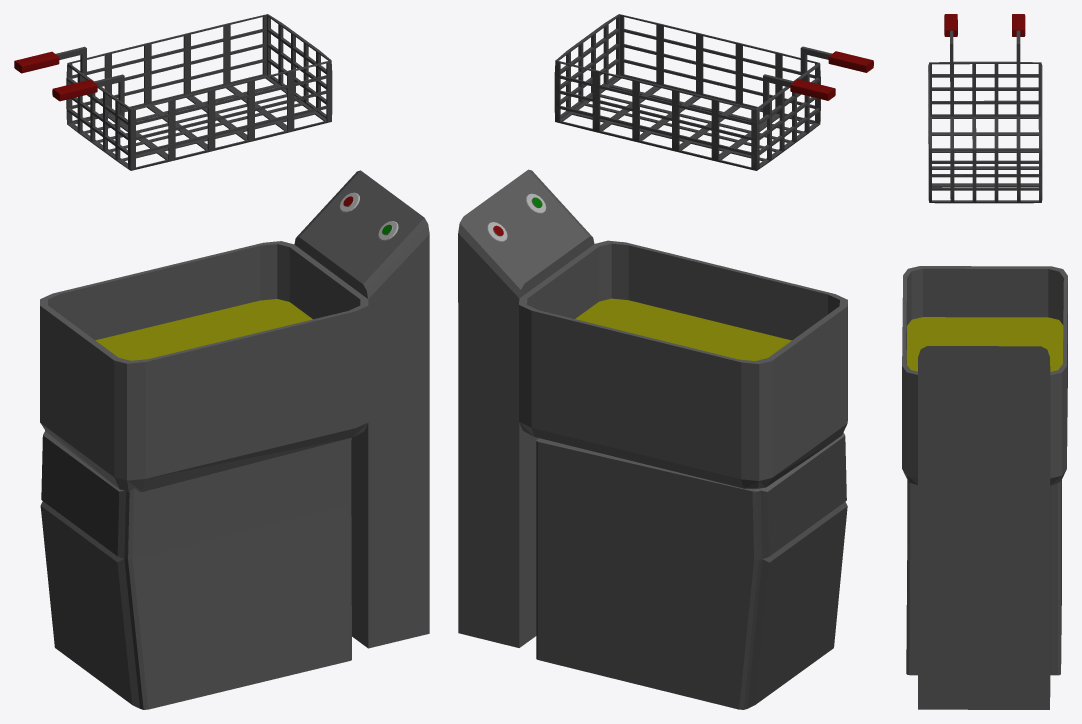
The model's file is Anim_Obj_Freidora_01.fbx.
3 views of the same model, side by side, from view 1: azimuth 30°, elevation 25°; view 2: azimuth 150°, elevation 25°; view 3: azimuth 270°, elevation 25° (orthographic). The views are drawn at different scales.
Parts seen in each view (by area): view 1: Obj_Freidora_001:pCube7, Obj_Freidora_001:canasta1; view 2: Obj_Freidora_001:pCube7, Obj_Freidora_001:canasta1; view 3: Obj_Freidora_001:pCube7, Obj_Freidora_001:canasta1.
Part boxes in pixels (x1=…): Obj_Freidora_001:pCube7: x1=40, y1=170, x2=429, y2=709; Obj_Freidora_001:canasta1: x1=14, y1=14, x2=332, y2=170; Obj_Freidora_001:pCube7: x1=458, y1=169, x2=847, y2=709; Obj_Freidora_001:canasta1: x1=554, y1=14, x2=873, y2=170; Obj_Freidora_001:pCube7: x1=902, y1=266, x2=1067, y2=709; Obj_Freidora_001:canasta1: x1=928, y1=14, x2=1042, y2=203.
Size of the model in its own units: 5.67 by 9.41 by 2.6.
